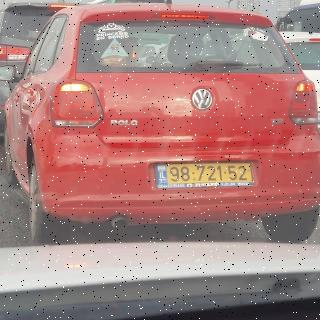LicensePlate: (167, 163, 252, 184)
